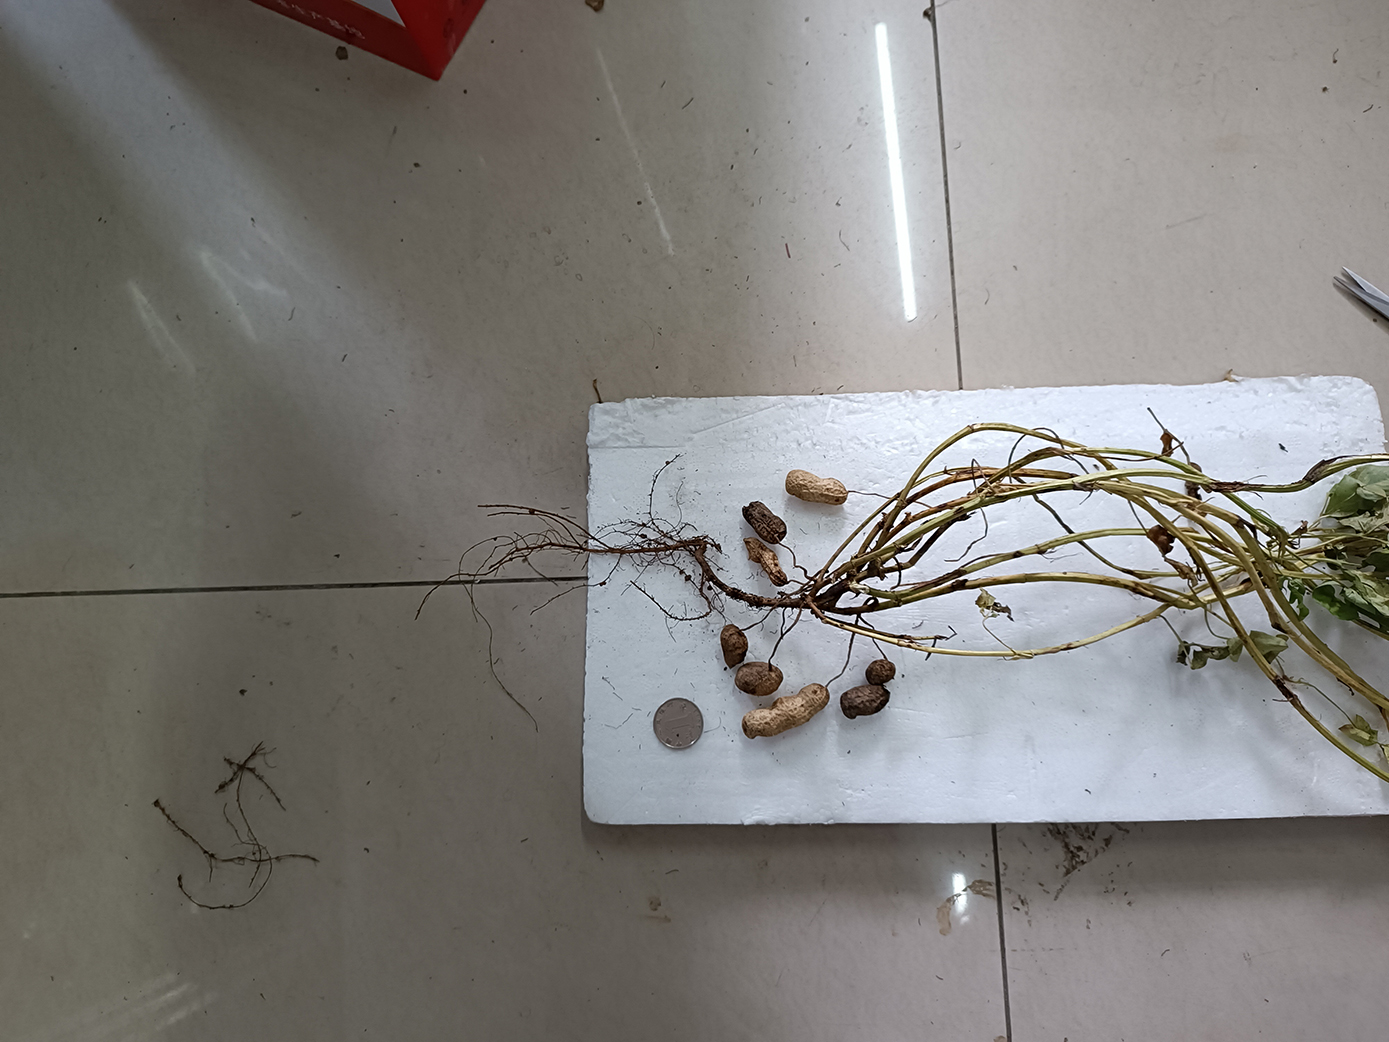h: (743, 682, 829, 739), (785, 468, 846, 506)
l: (744, 537, 787, 587), (838, 682, 889, 720), (743, 501, 787, 541), (736, 662, 785, 695), (717, 624, 746, 665), (865, 657, 896, 682)
